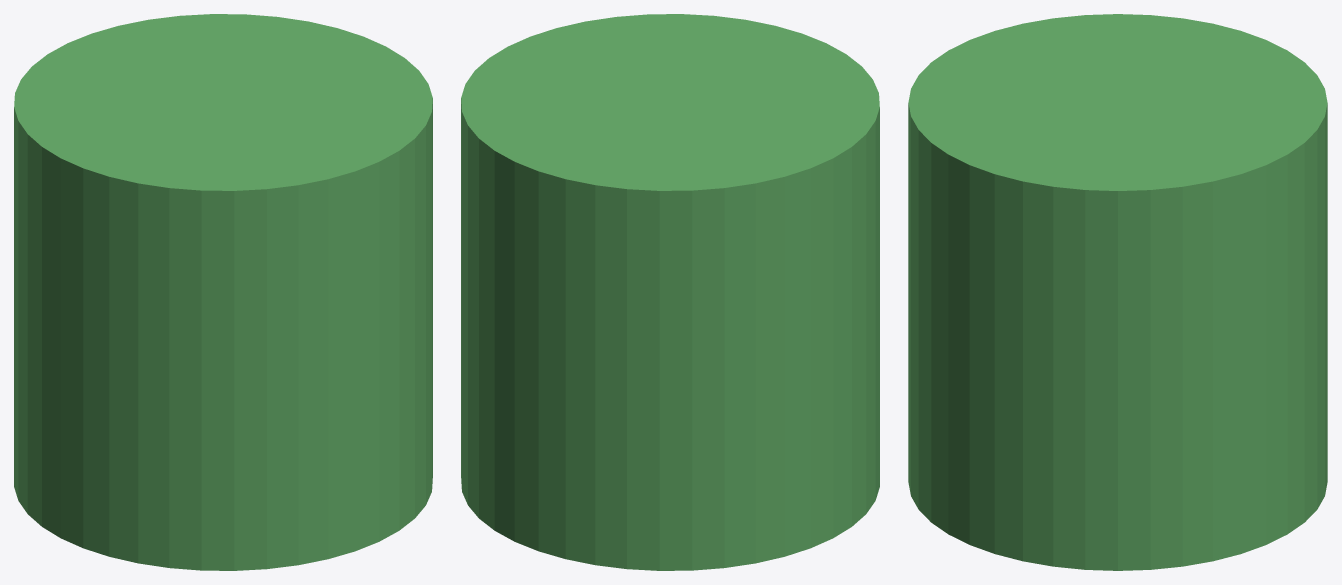
Rendered from Bumper.fbx.
3 views of the same model, side by side, from view 1: azimuth 30°, elevation 25°; view 2: azimuth 150°, elevation 25°; view 3: azimuth 270°, elevation 25° (orthographic).
Visible parts, largest first — view 1: Bumper; view 2: Bumper; view 3: Bumper.
Part boxes in pixels (x1=…): Bumper: x1=14, y1=14, x2=432, y2=570; Bumper: x1=461, y1=14, x2=879, y2=570; Bumper: x1=908, y1=14, x2=1327, y2=570.
Bounding box in the file's own units: 4 × 4 × 4.
